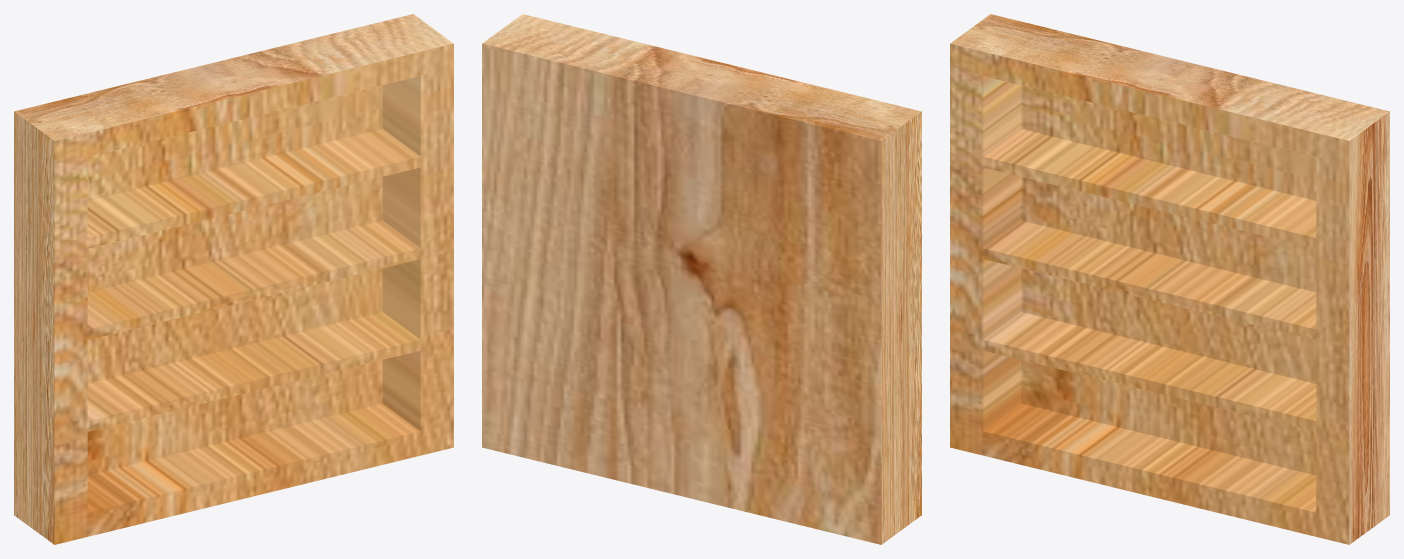
The model's file is Shelf.glb.
The picture shows the model from 3 angles, left to right: view 1: azimuth 30°, elevation 25°; view 2: azimuth 150°, elevation 25°; view 3: azimuth 330°, elevation 25°; orthographic projection.
Parts seen in each view (by area): view 1: Cube.008; view 2: Cube.008; view 3: Cube.008.
Boxes of the visible parts, bbox=[...] form: Cube.008: bbox=[14, 14, 453, 544]; Cube.008: bbox=[482, 14, 921, 544]; Cube.008: bbox=[950, 14, 1389, 544].
Size of the model in its own units: 11.38 by 11 by 2.
1 material, 1 textured.
